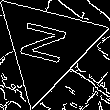N_E: (18, 20, 76, 72)
